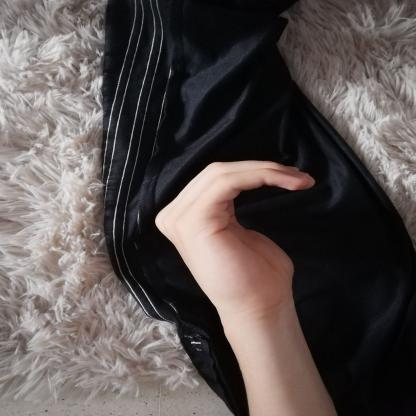HAA: (140, 149, 334, 322)
